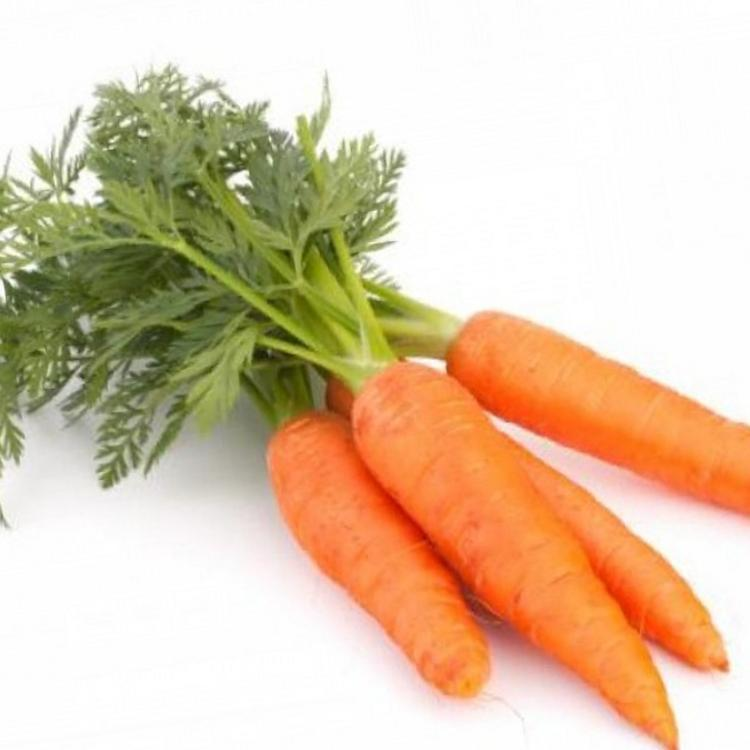carrot: (19, 97, 736, 705), (245, 388, 716, 749), (396, 270, 750, 530)
